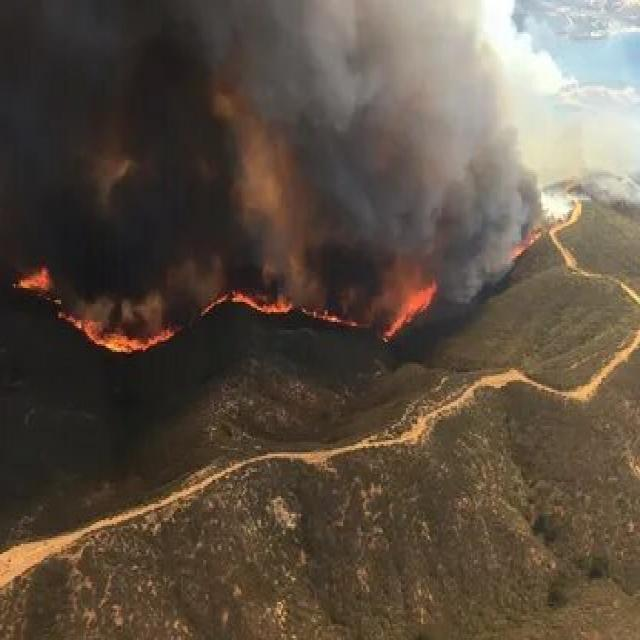Fire: (208, 259, 410, 354), (2, 276, 178, 383)
Smoke: (0, 0, 530, 255)
